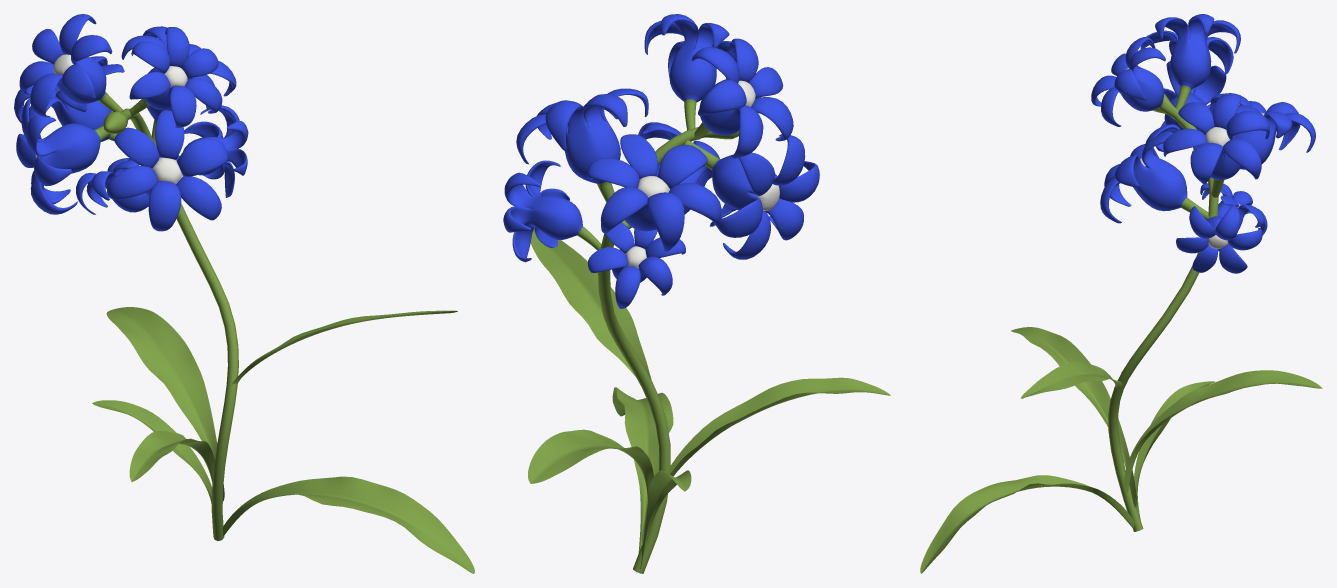
Rendered from object_EN-plants-bluebell_006.glb.
The picture shows the model from 3 angles, left to right: view 1: azimuth 30°, elevation 25°; view 2: azimuth 150°, elevation 25°; view 3: azimuth 270°, elevation 25°; orthographic projection. The views are drawn at different scales.
Parts seen in each view (by area): view 1: GEO-plants-bluebell-petals.017, GEO-leaf.bluebell.012, GEO-plants-bluebell-petals.019, GEO-leaf.bluebell.013, GEO-plants-bluebell-petals.016, GEO-plants-bluebell-petals.021, GEO-plants-bluebell-stem.2, GEO-plants-bluebell-petals.032, GEO-plants-bluebell-petals.020, GEO-leaf.bluebell.011, GEO-plants-bluebell-petals.012, GEO-leaf.bluebell.010 (+2 smaller); view 2: GEO-plants-bluebell-petals.020, GEO-plants-bluebell-petals.021, GEO-plants-bluebell-petals.019, GEO-plants-bluebell-petals.018, GEO-plants-bluebell-petals.032, GEO-leaf.bluebell.014, GEO-plants-bluebell-petals.016, GEO-plants-bluebell-petals.012, GEO-plants-bluebell-stem.2, GEO-leaf.bluebell.011, GEO-leaf.bluebell.013, GEO-leaf.bluebell.012 (+2 smaller); view 3: GEO-plants-bluebell-petals.018, GEO-plants-bluebell-petals.017, GEO-plants-bluebell-petals.019, GEO-plants-bluebell-petals.016, GEO-plants-bluebell-stem.2, GEO-plants-bluebell-petals.032, GEO-leaf.bluebell.012, GEO-leaf.bluebell.013, GEO-leaf.bluebell.011, GEO-plants-bluebell-petals.020, GEO-leaf.bluebell.014, GEO-plants-bluebell-petals.021 (+2 smaller).
Boxes of the visible parts, x1,y1,x2,y2 form: GEO-plants-bluebell-petals.017: [107, 110, 228, 231]; GEO-leaf.bluebell.012: [222, 476, 474, 573]; GEO-plants-bluebell-petals.019: [19, 14, 122, 117]; GEO-leaf.bluebell.013: [106, 307, 224, 501]; GEO-plants-bluebell-petals.016: [129, 27, 222, 127]; GEO-plants-bluebell-petals.021: [16, 98, 110, 214]; GEO-plants-bluebell-stem.2: [103, 108, 238, 540]; GEO-plants-bluebell-petals.032: [183, 105, 248, 197]; GEO-plants-bluebell-petals.020: [14, 56, 124, 141]; GEO-leaf.bluebell.011: [129, 431, 215, 483]; GEO-plants-bluebell-petals.012: [76, 158, 149, 214]; GEO-leaf.bluebell.010: [92, 400, 212, 504]; GEO-plants-bluebell-petals.020: [587, 134, 721, 251]; GEO-plants-bluebell-petals.021: [684, 134, 819, 259]; GEO-plants-bluebell-petals.019: [691, 38, 793, 158]; GEO-plants-bluebell-petals.018: [516, 88, 648, 202]; GEO-plants-bluebell-petals.032: [503, 160, 601, 262]; GEO-leaf.bluebell.014: [530, 228, 651, 379]; GEO-plants-bluebell-petals.016: [644, 14, 736, 130]; GEO-plants-bluebell-petals.012: [587, 222, 685, 308]; GEO-plants-bluebell-stem.2: [598, 127, 739, 573]; GEO-leaf.bluebell.011: [641, 377, 890, 545]; GEO-leaf.bluebell.013: [528, 429, 653, 500]; GEO-leaf.bluebell.012: [612, 387, 673, 552]; GEO-plants-bluebell-petals.018: [1163, 93, 1269, 197]; GEO-plants-bluebell-petals.017: [1100, 124, 1208, 223]; GEO-plants-bluebell-petals.019: [1140, 14, 1240, 110]; GEO-plants-bluebell-petals.016: [1091, 37, 1177, 126]; GEO-plants-bluebell-stem.2: [1108, 93, 1218, 531]; GEO-plants-bluebell-petals.032: [1176, 204, 1262, 273]; GEO-leaf.bluebell.012: [920, 475, 1134, 573]; GEO-leaf.bluebell.013: [1123, 370, 1322, 492]; GEO-leaf.bluebell.011: [1011, 327, 1137, 507]; GEO-plants-bluebell-petals.020: [1210, 93, 1315, 169]; GEO-leaf.bluebell.014: [1021, 361, 1122, 398]; GEO-plants-bluebell-petals.021: [1155, 61, 1226, 151].
Size of the model in its own units: 0.2235 by 0.3236 by 0.2502.
